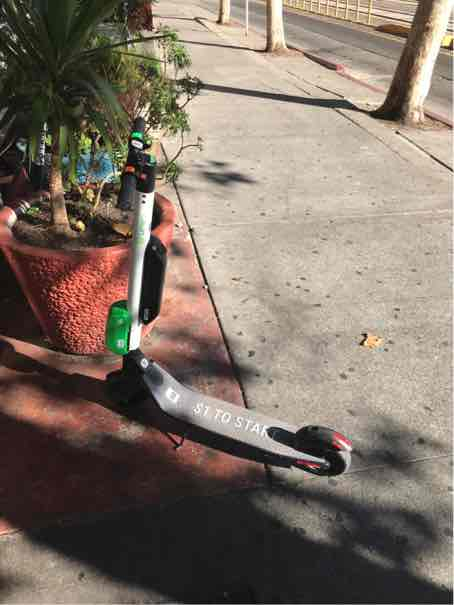scooter: (83, 93, 363, 489)
